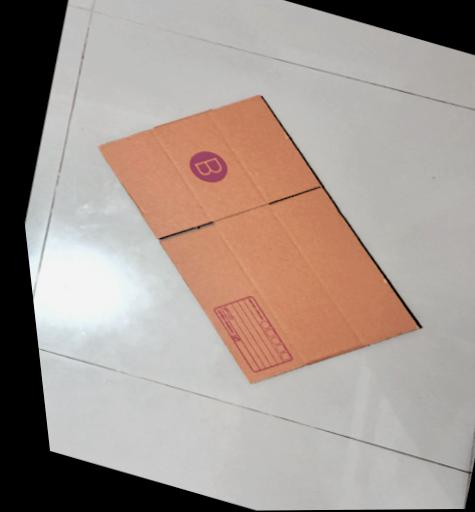box: (27, 46, 475, 437)
class0: (192, 285, 312, 385), (180, 146, 233, 188)
